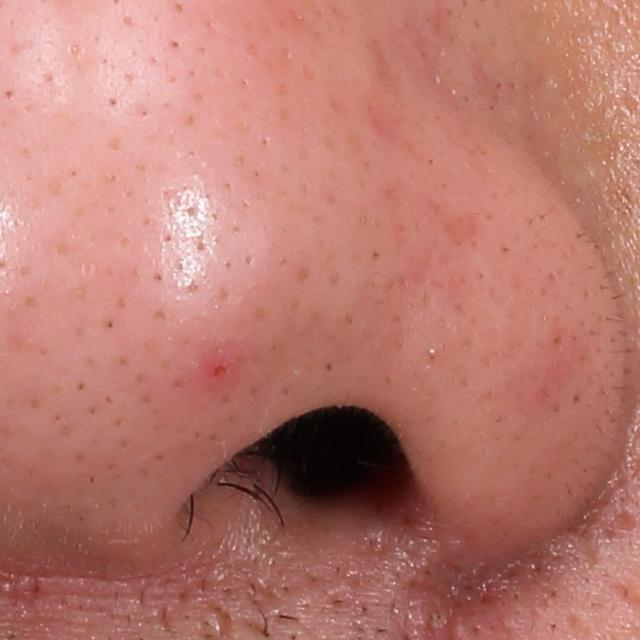papule: (200, 350, 244, 393)
